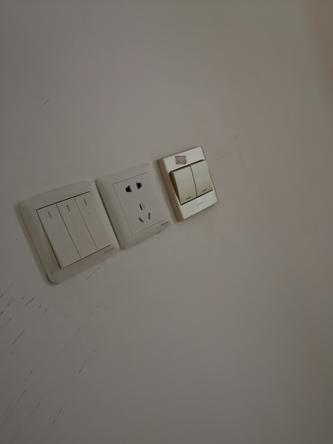switch: (37, 201, 80, 273), (57, 193, 95, 261), (75, 186, 114, 249), (170, 163, 199, 206), (192, 156, 215, 198)
